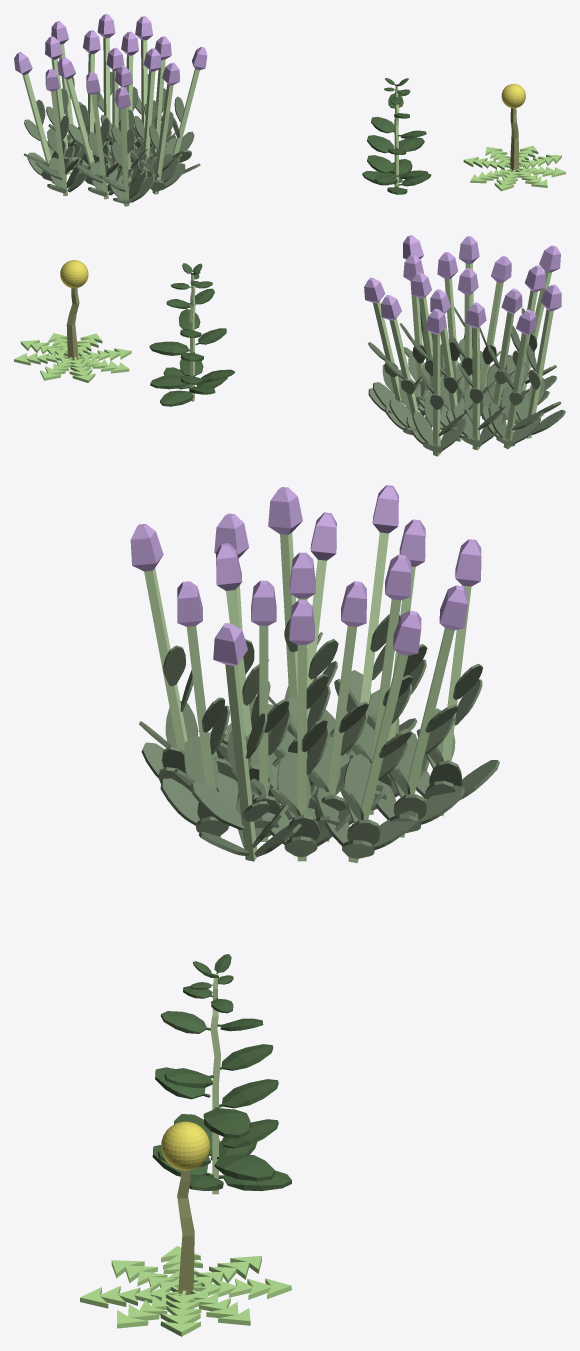
The model's file is Plants.fbx.
3 renders of one model, top to bottom at view 1: azimuth 30°, elevation 25°; view 2: azimuth 150°, elevation 25°; view 3: azimuth 270°, elevation 25°, orthographic. The views are drawn at different scales.
Parts seen in each view (by area): view 1: Lavender bush.002, Mint plant.001, Dandelion.001; view 2: Lavender bush.002, Mint plant.001, Dandelion.001; view 3: Lavender bush.002, Mint plant.001, Dandelion.001.
Part boxes in pixels (box(x1,y1,x2,y2)): Lavender bush.002: box(14, 14, 207, 206); Mint plant.001: box(362, 78, 431, 194); Dandelion.001: box(463, 83, 565, 191); Lavender bush.002: box(364, 235, 565, 456); Mint plant.001: box(149, 263, 234, 406); Dandelion.001: box(14, 260, 131, 382); Lavender bush.002: box(130, 485, 499, 863); Mint plant.001: box(152, 954, 291, 1194); Dandelion.001: box(80, 1121, 291, 1336).
Size of the model in its own units: 258 by 96.08 by 94.53.
